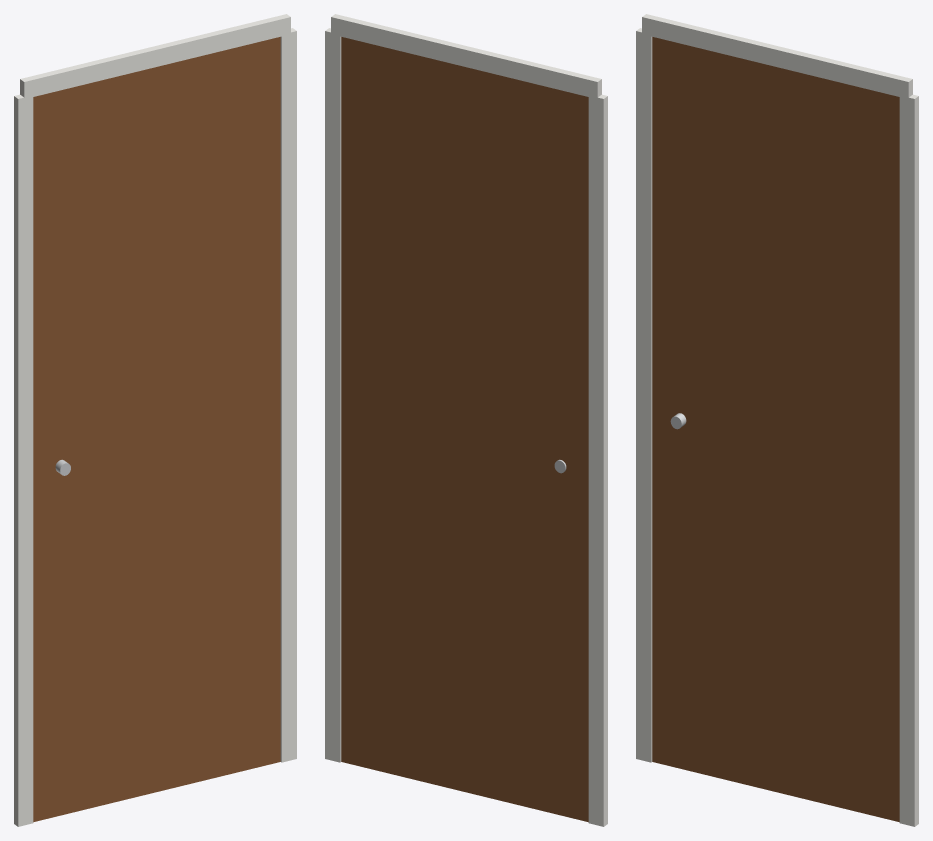
File: BTH-0006.glb
3 views of the same model, side by side, from view 1: azimuth 30°, elevation 25°; view 2: azimuth 150°, elevation 25°; view 3: azimuth 330°, elevation 25° (orthographic).
Visible parts, largest first — view 1: right-door; view 2: right-door; view 3: right-door.
Boxes of the visible parts, x1,y1,x2,y2 form: right-door: (14,14,296,826); right-door: (325,14,607,826); right-door: (636,14,918,826).
Size of what is drawn, in the model's own units: 0.83 by 2.11 by 0.04.
